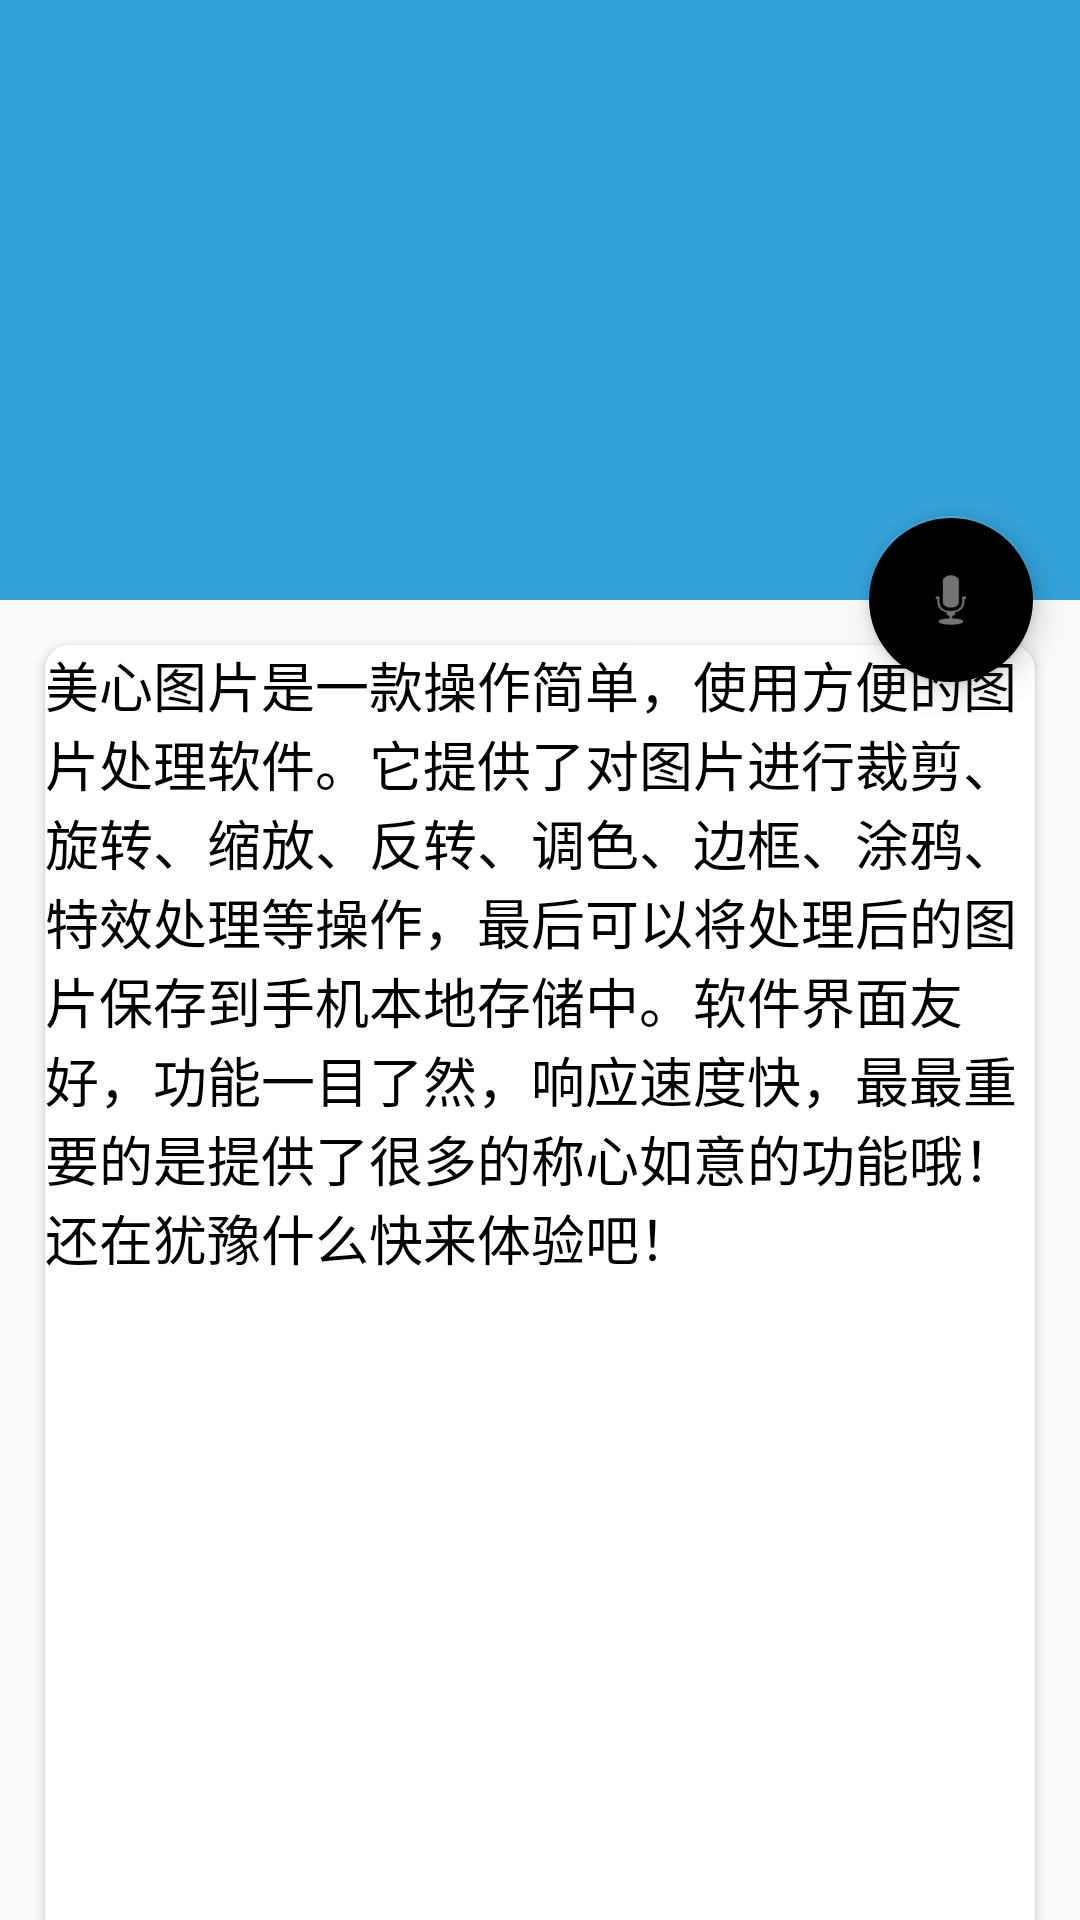

Where to tap for icons on this 1080px×1920px app screen, as (x=x, y=y):
speak now: (x=951, y=600)
